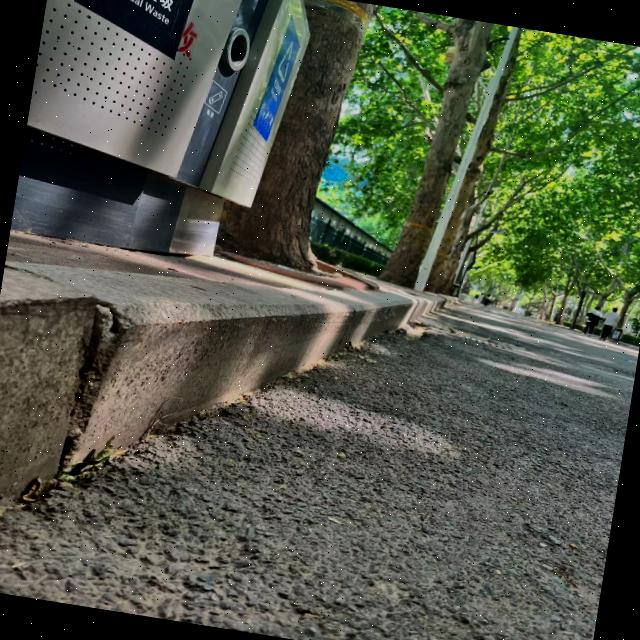curb: (1, 230, 448, 588)
